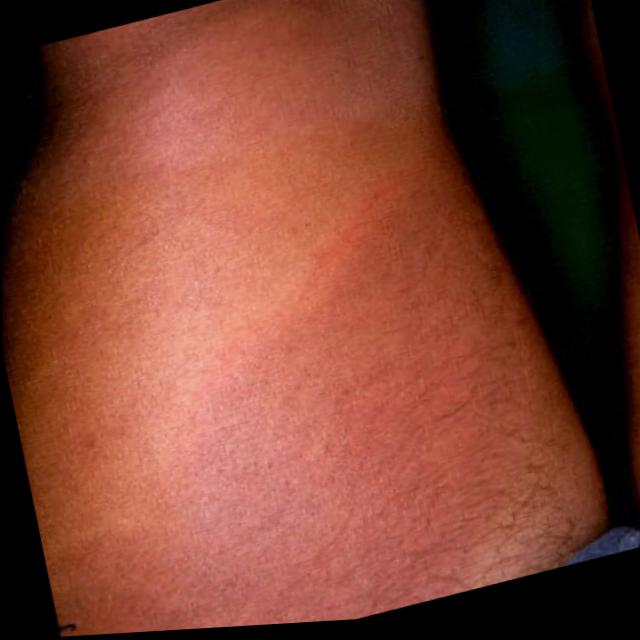Erythema chronicum migrans: (138, 243, 550, 634)
